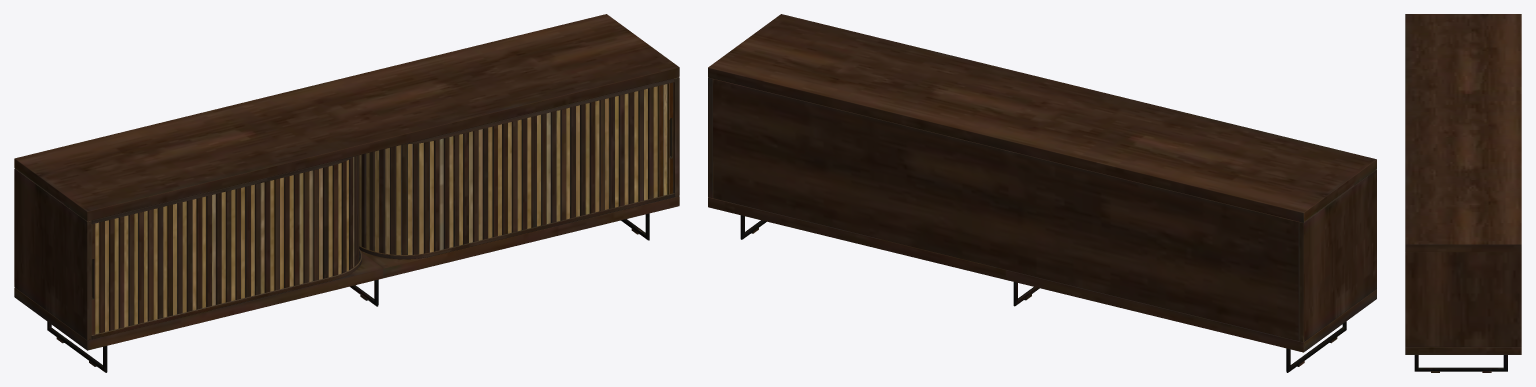
Rendered from ph-modern_wooden_cabinet.glb.
3 renders of one model, left to right at view 1: azimuth 30°, elevation 25°; view 2: azimuth 150°, elevation 25°; view 3: azimuth 270°, elevation 25°, orthographic. The views are drawn at different scales.
Visible parts, largest first — view 1: modern_wooden_cabinet_body, modern_wooden_cabinet_door_l; view 2: modern_wooden_cabinet_body; view 3: modern_wooden_cabinet_body.
Part boxes in pixels (x1,y1,x2,y2): modern_wooden_cabinet_body: [14, 14, 679, 372]; modern_wooden_cabinet_door_l: [91, 82, 673, 334]; modern_wooden_cabinet_body: [708, 14, 1376, 372]; modern_wooden_cabinet_body: [1405, 14, 1521, 372].
Bounding box in the file's own units: 1 × 0.2787 × 0.2131.
Materials: 1 (1 with a texture image).
